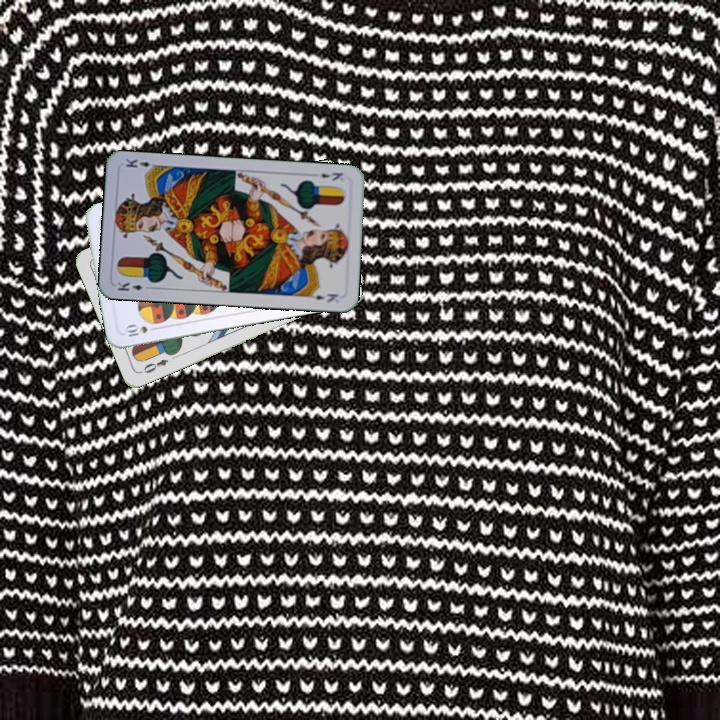EK: (113, 278, 154, 293), (317, 168, 346, 183)
EO: (136, 355, 171, 376)
S10: (120, 321, 161, 340)
